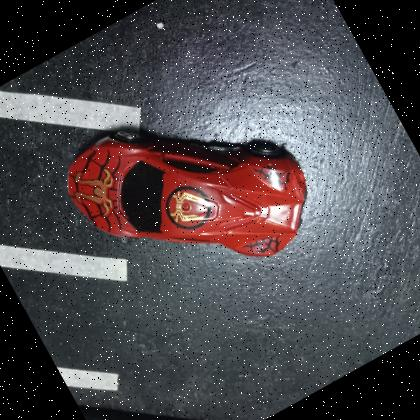Car: (52, 60, 336, 332)
